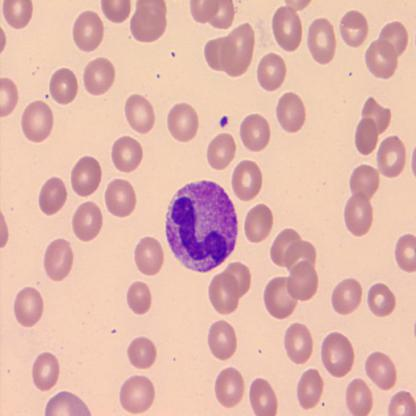Band Neutrophil: (163, 177, 240, 277)
